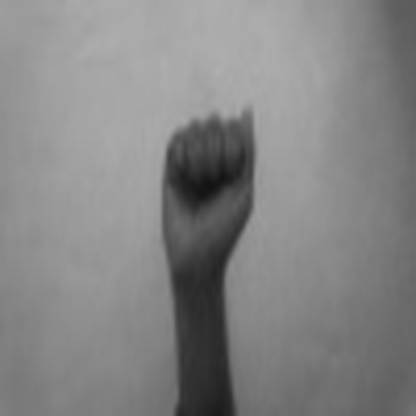a: (156, 89, 265, 272)
